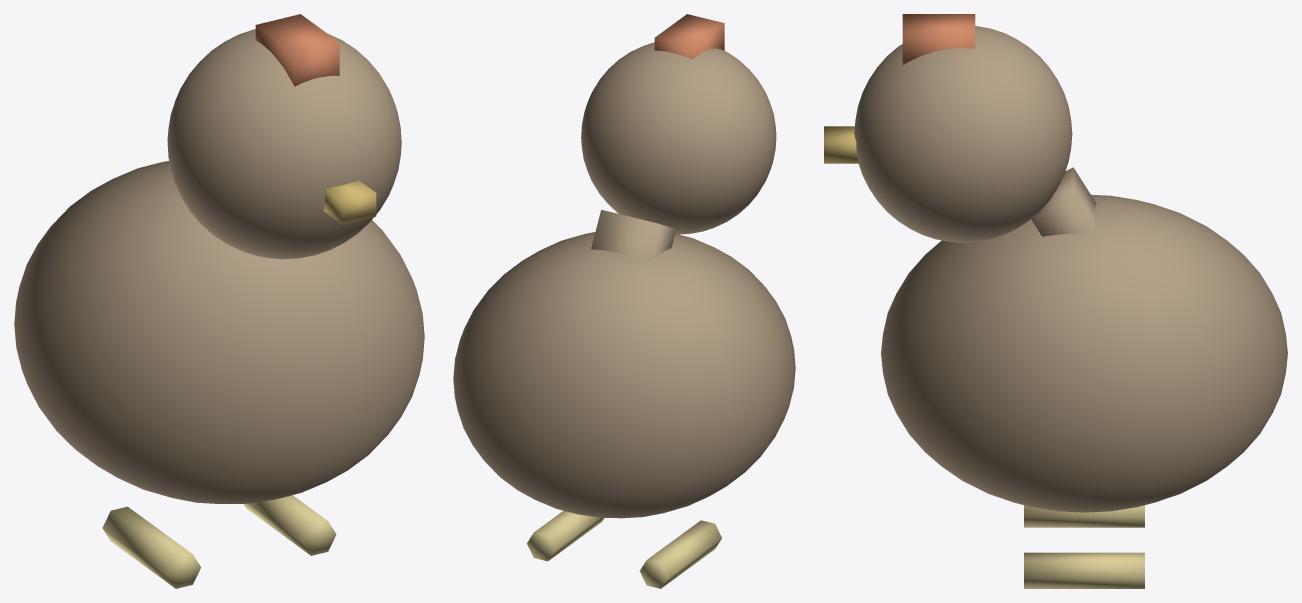
The model's file is animal_chicken_brown.glb.
The picture shows the model from 3 angles, left to right: view 1: azimuth 30°, elevation 25°; view 2: azimuth 150°, elevation 25°; view 3: azimuth 270°, elevation 25°; orthographic projection. The views are drawn at different scales.
Visible parts, largest first — view 1: body, head, comb, leg-1, leg1, beak; view 2: body, head, tail, leg-1, comb, leg1; view 3: body, head, leg1, comb, tail, leg-1, beak.
Part boxes in pixels (x1,y1,x2,y2): body: (14,161,424,503); head: (167,29,401,259); comb: (255,14,339,86); leg-1: (102,506,200,588); leg1: (243,495,336,555); beak: (324,180,376,224); body: (453,232,795,518); head: (581,42,776,234); tail: (591,209,676,263); leg-1: (640,520,721,588); comb: (654,14,724,59); leg1: (527,510,604,561); body: (881,194,1287,512); head: (854,26,1072,242); leg1: (1024,552,1144,588); comb: (902,14,975,64); tail: (1031,167,1096,236); leg-1: (1024,505,1144,527); beak: (824,126,858,163).
Size of the model in its own units: 0.308 by 0.483 by 0.383.
